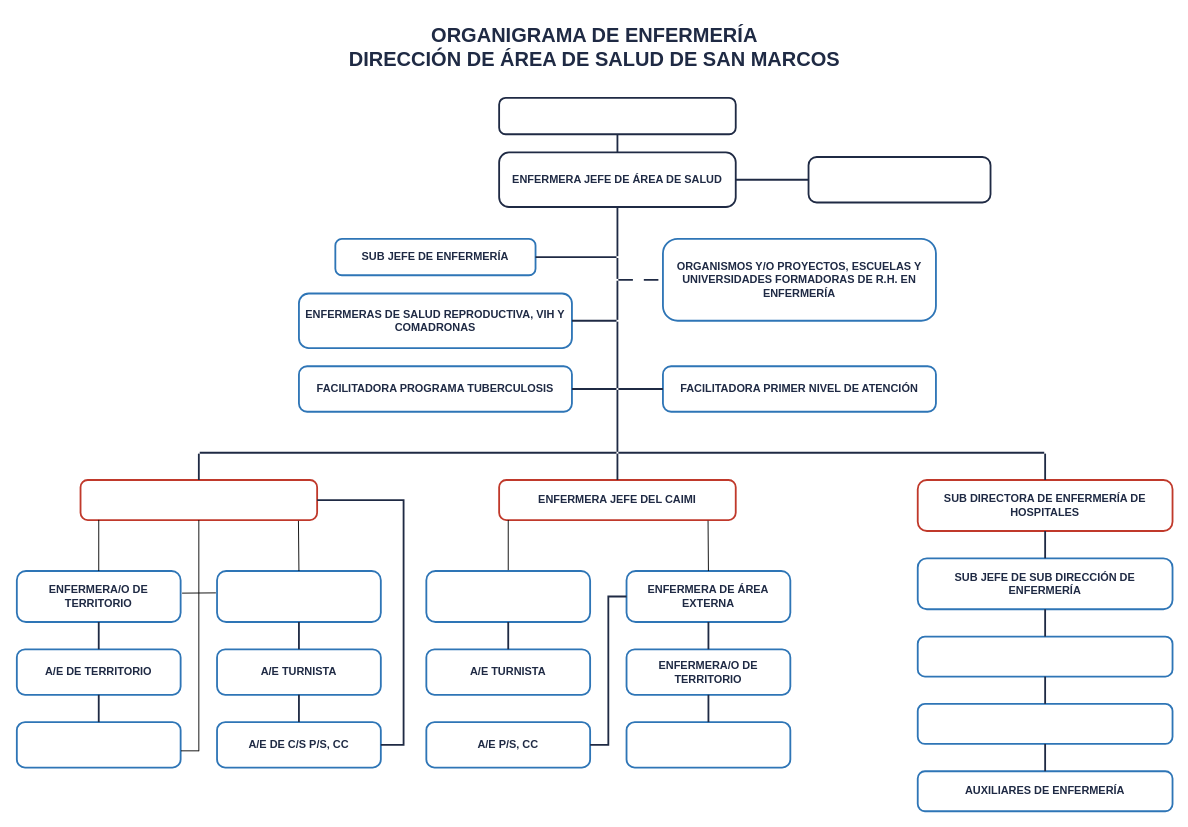
Image size: 1188x827. Some labels were removed from this diagram. The shapes that lost their labels are listed below. From the top down, each one's centre as x and y in pixels, then its label:
point (617, 115): DIRECTOR DE ÁREA DE SALUD
point (899, 179): SECRETARIO DE ENFERMERÍA
point (198, 500): ENFERMERA/O DE DISTRITO
point (298, 596): ENFERMERA/O TURNISTA
point (508, 596): ENFERMERA TURNISTA
point (1044, 656): ENFERMERAS SUPERVISORAS
point (1044, 723): ENFERMERA JEFES DE SERVICIO
point (98, 744): COMADRONAS
point (708, 744): A/E ÁREA EXTERNA
